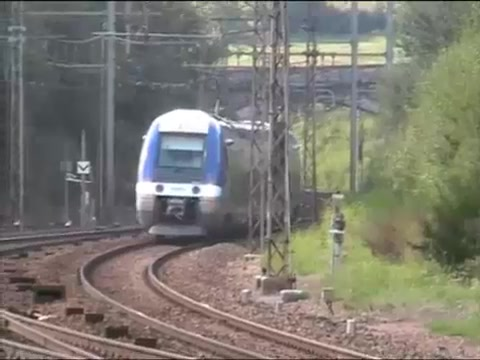train: (138, 108, 310, 243)
